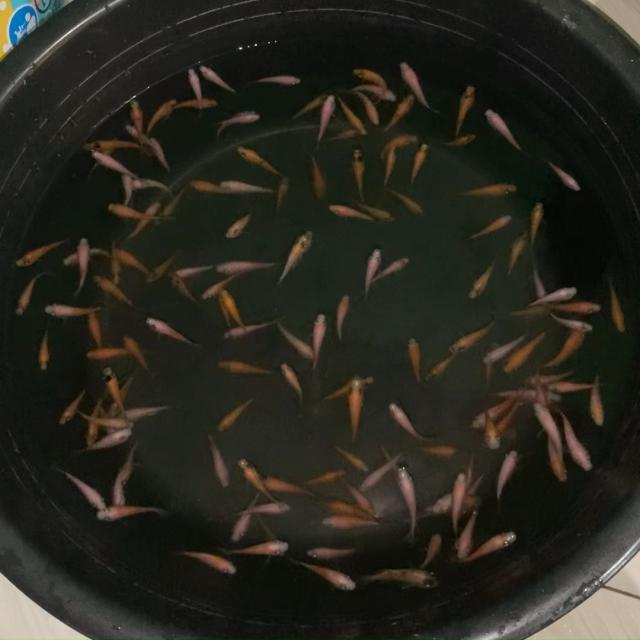nila: (288, 556, 362, 592), (356, 448, 406, 494), (58, 466, 106, 513), (486, 106, 530, 157), (459, 530, 518, 568), (504, 326, 548, 376), (543, 324, 589, 370), (562, 408, 596, 470), (236, 457, 278, 507), (470, 386, 522, 426), (144, 314, 204, 348), (169, 550, 238, 579), (354, 568, 444, 590), (530, 395, 564, 453), (448, 316, 497, 355), (12, 236, 66, 270), (482, 328, 534, 363), (400, 61, 435, 112), (385, 400, 428, 441), (274, 316, 314, 360), (397, 464, 419, 542), (224, 492, 259, 540), (254, 471, 314, 499), (322, 372, 374, 404), (198, 268, 248, 300), (94, 504, 170, 525), (102, 364, 130, 420), (126, 200, 164, 241), (92, 149, 140, 181), (278, 361, 310, 408), (464, 211, 514, 241), (108, 202, 176, 224), (341, 474, 376, 516), (15, 272, 48, 316), (306, 310, 330, 370), (224, 314, 279, 340), (200, 62, 242, 96), (324, 499, 386, 522), (157, 183, 190, 226), (382, 92, 414, 136), (214, 397, 254, 432), (276, 234, 304, 284), (452, 82, 476, 140), (206, 434, 230, 492), (546, 426, 569, 486), (495, 450, 521, 503), (208, 259, 284, 277), (452, 469, 487, 508), (312, 94, 338, 146), (109, 373, 139, 418), (371, 256, 416, 286), (238, 145, 284, 174), (498, 387, 568, 406), (94, 276, 134, 309), (468, 256, 498, 300), (130, 173, 177, 201), (83, 392, 107, 446), (352, 66, 386, 104), (122, 337, 156, 375), (338, 94, 368, 137), (328, 445, 371, 475), (214, 358, 278, 378), (424, 493, 482, 515), (77, 432, 128, 457), (524, 284, 579, 307), (374, 131, 416, 161), (167, 274, 205, 307), (405, 336, 430, 386), (347, 374, 365, 443), (75, 408, 134, 429), (218, 288, 246, 332), (53, 389, 84, 428), (238, 538, 288, 562), (446, 473, 466, 533), (352, 85, 381, 126), (144, 249, 176, 286), (492, 398, 524, 435), (292, 225, 314, 278), (303, 542, 361, 562), (325, 200, 373, 224), (90, 135, 120, 173), (364, 245, 384, 302), (109, 247, 148, 276), (348, 81, 397, 104), (464, 180, 520, 200), (606, 280, 626, 336), (44, 303, 106, 321), (547, 160, 583, 191), (422, 351, 458, 382), (217, 108, 254, 138), (221, 206, 255, 238), (434, 482, 468, 514), (227, 500, 294, 516), (292, 90, 330, 118), (148, 98, 176, 136), (524, 363, 580, 382), (72, 236, 90, 294), (590, 371, 608, 429), (299, 468, 351, 488), (544, 312, 596, 332), (306, 152, 328, 199), (454, 509, 476, 556), (356, 198, 399, 222), (220, 178, 274, 197), (318, 516, 391, 530), (507, 230, 528, 278), (114, 404, 172, 421), (173, 94, 222, 114), (378, 446, 401, 488), (118, 442, 140, 484), (64, 246, 110, 266), (188, 66, 206, 116), (503, 302, 553, 320), (336, 292, 352, 348), (80, 139, 148, 152), (128, 96, 145, 148), (272, 172, 292, 216), (530, 260, 550, 304), (125, 122, 156, 150), (393, 190, 424, 218), (250, 72, 304, 88), (381, 143, 399, 191), (168, 262, 216, 280), (548, 300, 602, 316), (530, 372, 553, 409), (107, 470, 132, 504), (410, 140, 428, 187), (188, 178, 240, 194), (542, 380, 610, 392), (422, 531, 444, 568), (528, 198, 544, 248), (149, 138, 171, 174), (438, 132, 476, 152), (88, 308, 107, 348), (92, 399, 114, 432), (83, 346, 131, 361), (350, 148, 365, 196), (482, 410, 500, 450), (412, 443, 458, 458), (216, 294, 234, 332), (462, 452, 477, 494), (118, 172, 134, 206), (110, 240, 122, 284), (39, 329, 51, 372), (483, 347, 495, 390), (328, 127, 364, 141), (220, 114, 260, 125)
